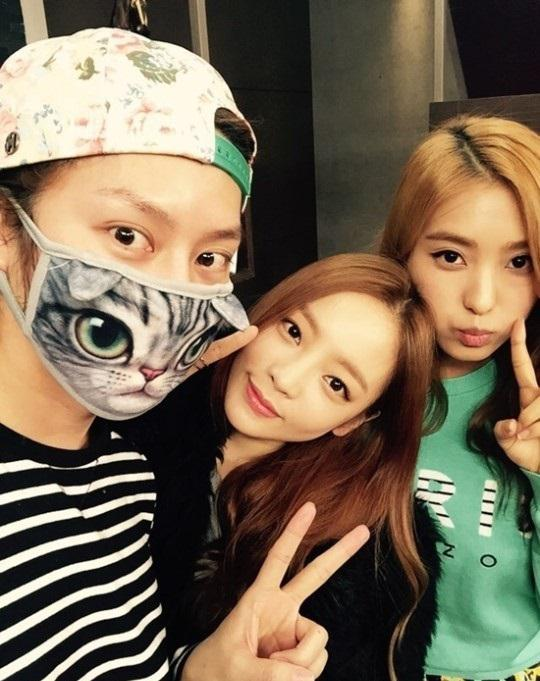NONE: (231, 299, 372, 439), (420, 218, 540, 356)
OK: (15, 182, 240, 409)
